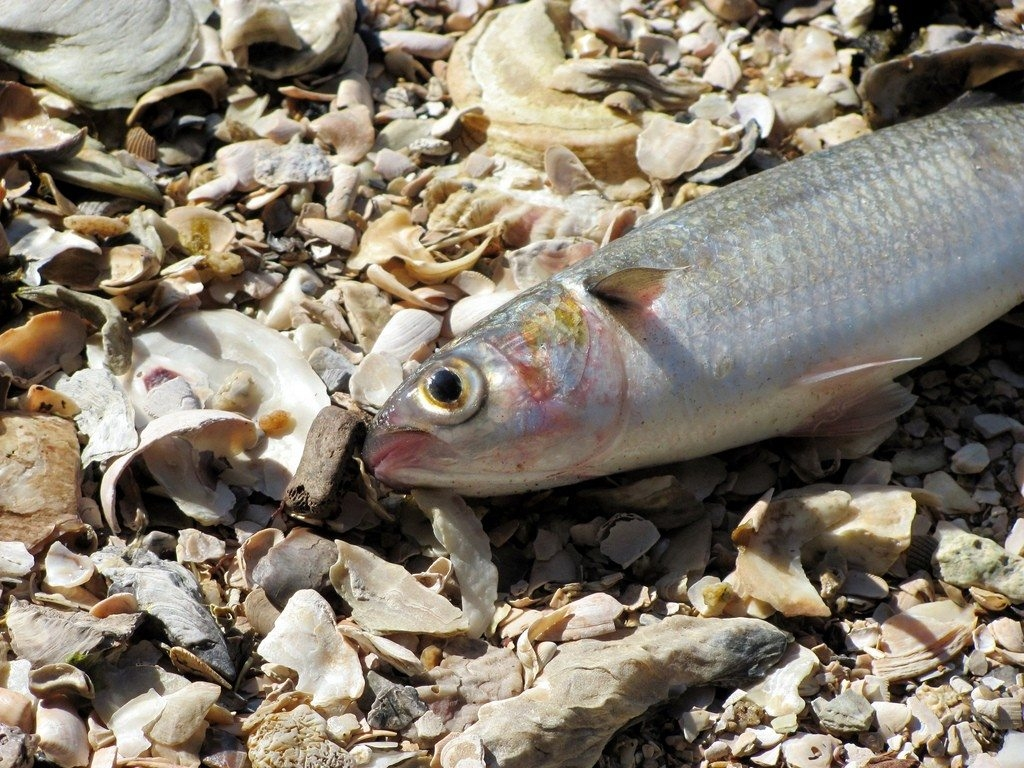kitchen_waste: (361, 82, 1024, 501)
